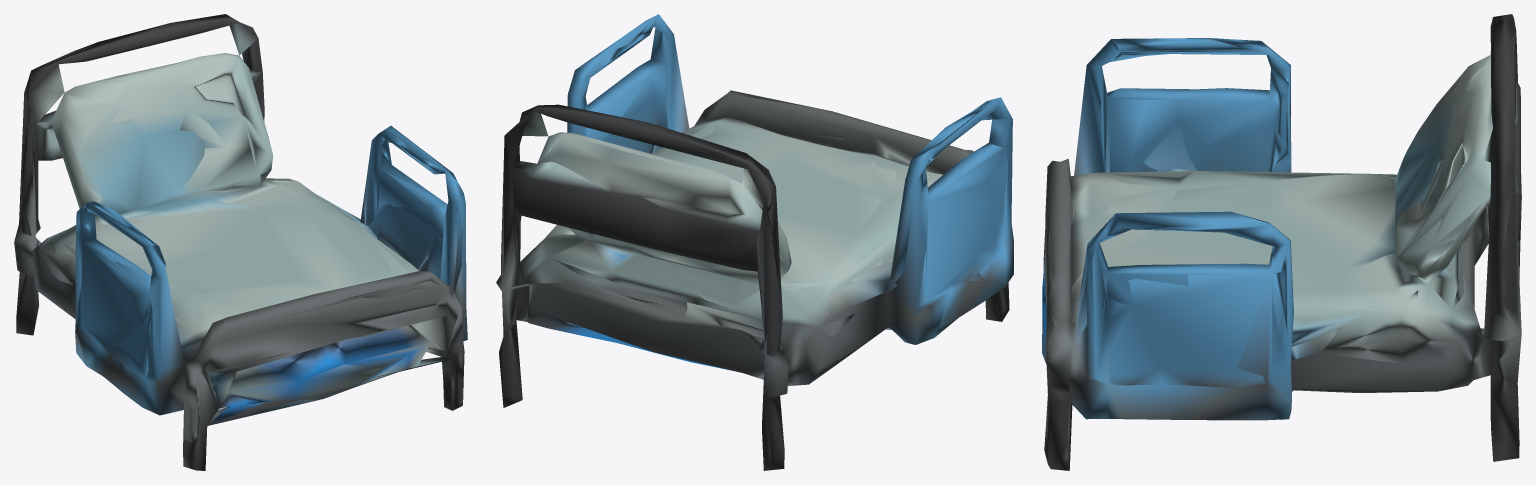
File: gen3d-hospital-bed-lod0.glb
The picture shows the model from 3 angles, left to right: view 1: azimuth 30°, elevation 25°; view 2: azimuth 150°, elevation 25°; view 3: azimuth 270°, elevation 25°; orthographic projection. The views are drawn at different scales.
Parts seen in each view (by area): view 1: part_0; view 2: part_0; view 3: part_0.
Boxes of the visible parts, x1,y1,x2,y2 form: part_0: [14, 14, 467, 470]; part_0: [496, 14, 1013, 470]; part_0: [1042, 14, 1521, 470].
Size of the model in its own units: 1.21 by 0.9929 by 1.31.
